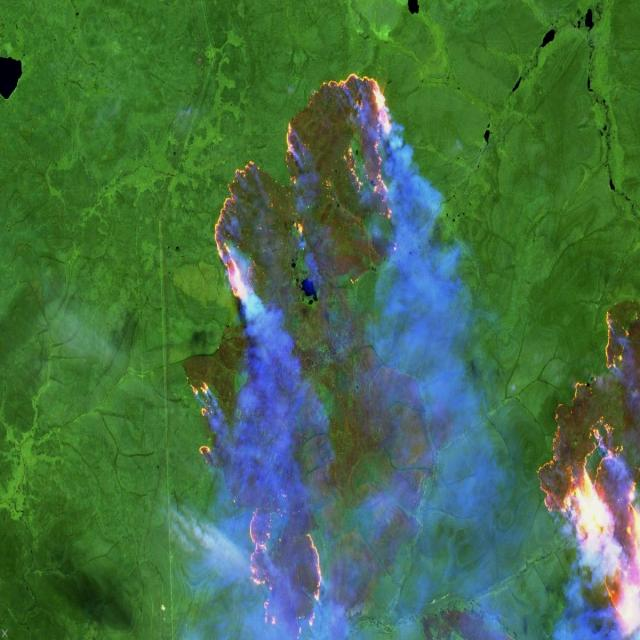fire: (188, 59, 401, 640), (526, 298, 640, 640)
